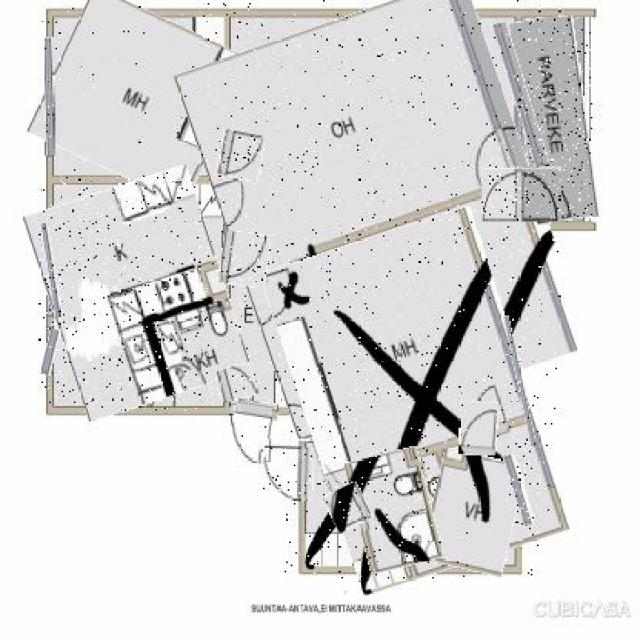door: (482, 168, 562, 222), (263, 440, 314, 498), (231, 400, 277, 463), (220, 232, 269, 288), (219, 131, 263, 180), (460, 402, 497, 456), (326, 484, 369, 530), (218, 365, 258, 400)
window: (503, 21, 539, 174), (510, 316, 528, 446), (509, 454, 529, 528), (46, 223, 59, 317), (46, 37, 56, 155), (43, 330, 59, 376)
zone: (202, 0, 562, 425), (283, 219, 549, 583), (38, 175, 237, 411), (40, 0, 238, 189), (517, 18, 592, 225), (426, 451, 520, 574), (351, 451, 437, 571)
